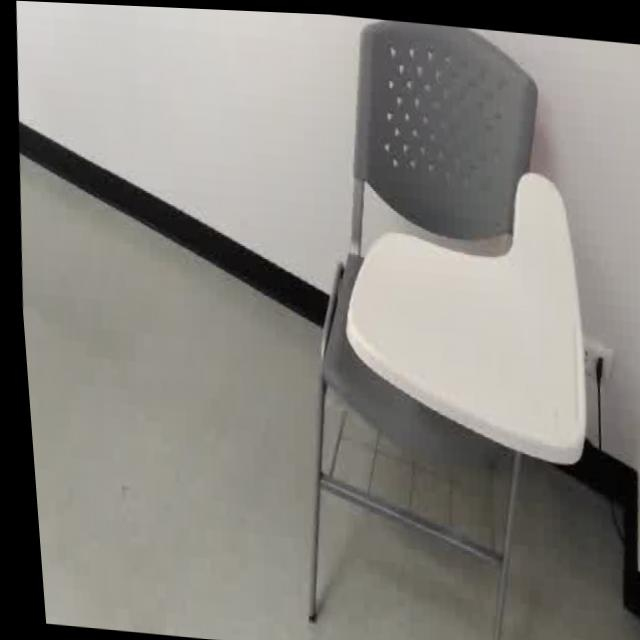chair: (235, 8, 640, 640)
